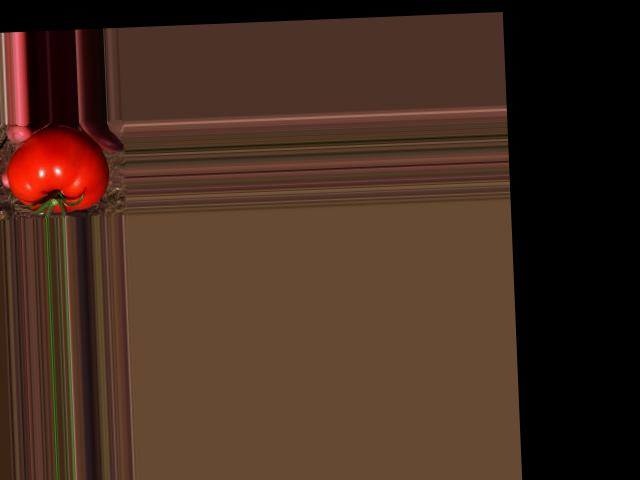tomato: (5, 124, 108, 214)
